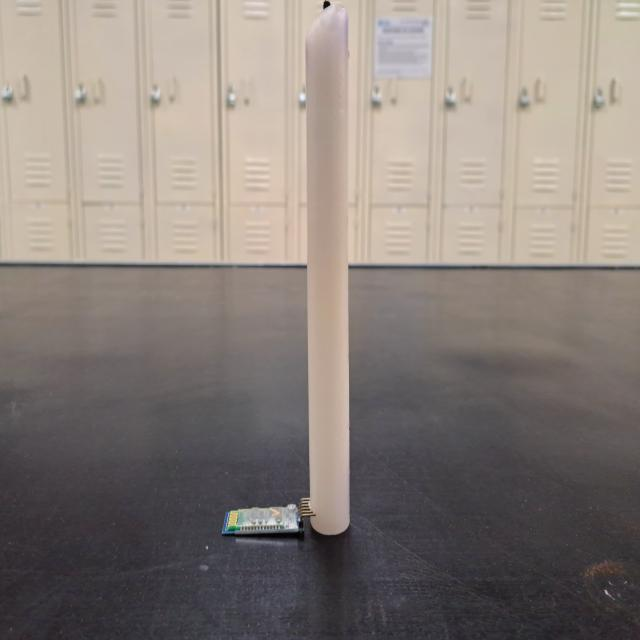candle: (294, 0, 376, 538)
